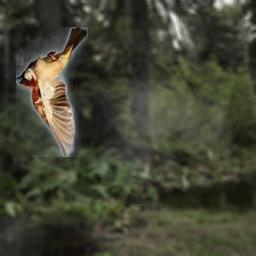Sparrow: (16, 27, 88, 157)
